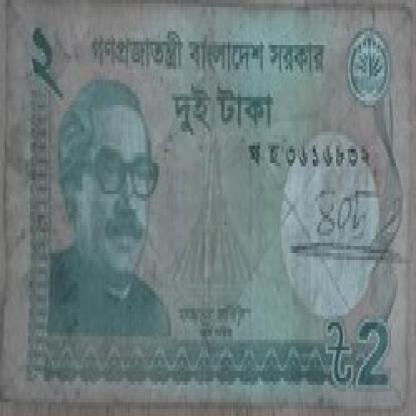two taka: (158, 76, 280, 139), (25, 21, 80, 94)
